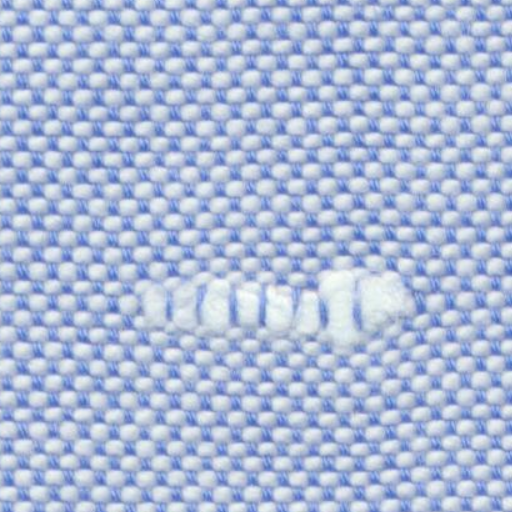DaiSha: (140, 236, 438, 362)
